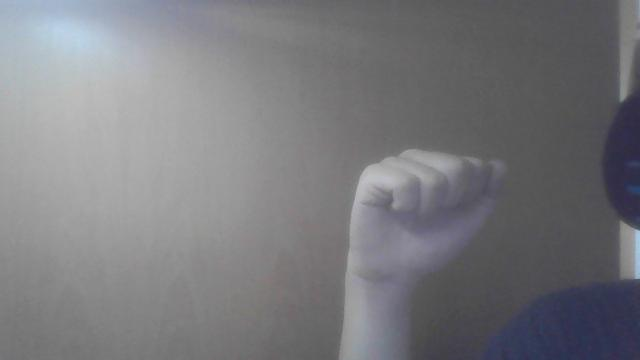forward: (337, 147, 507, 358)
